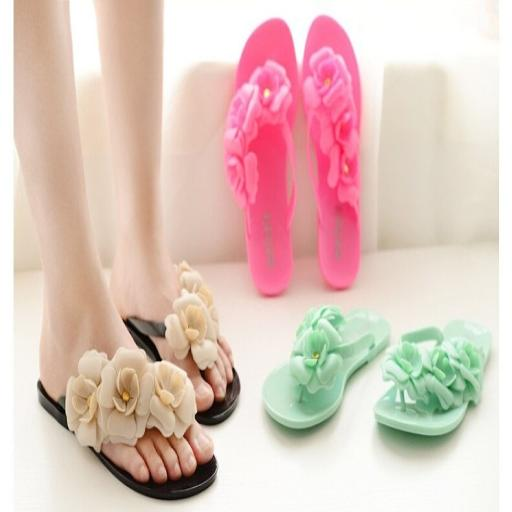sandal: (38, 348, 218, 500), (224, 18, 298, 295), (124, 262, 240, 426), (302, 15, 361, 289), (263, 306, 390, 428), (373, 320, 492, 436)
